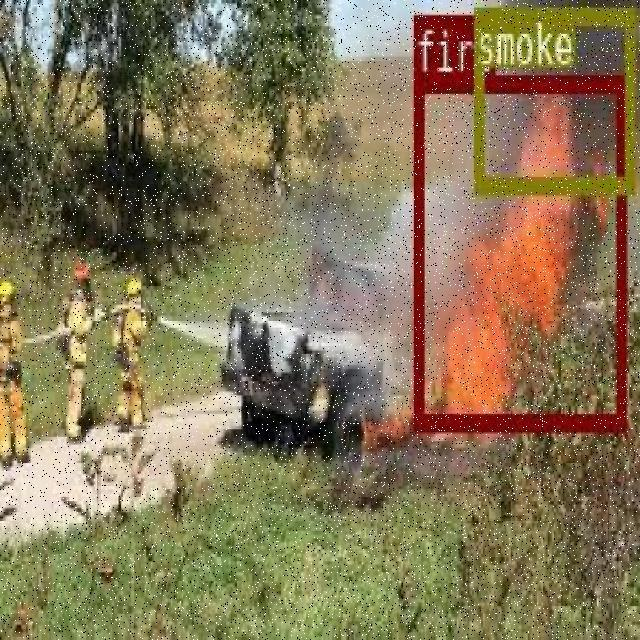Smoke: (505, 38, 601, 159)
